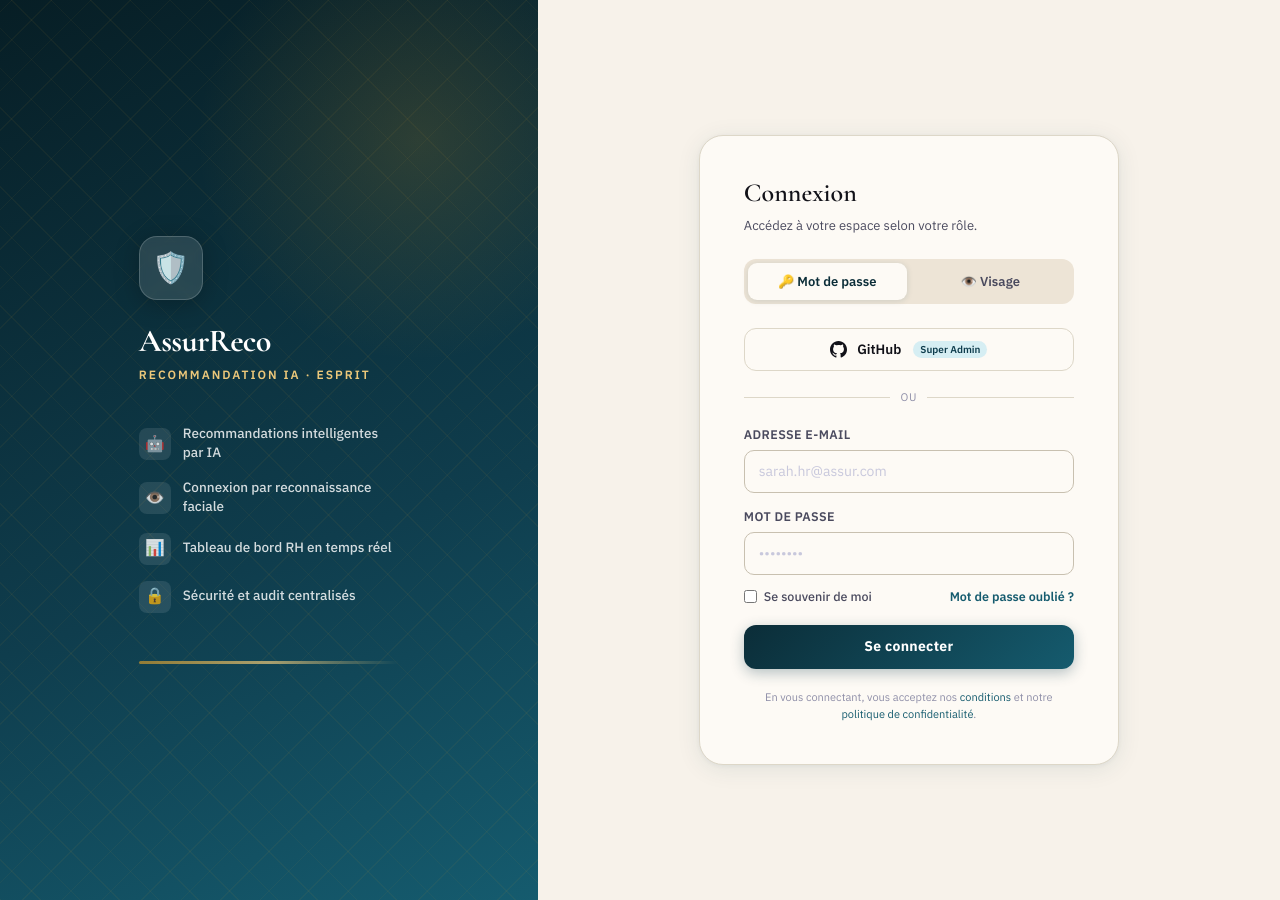
Test case: Login page › form interaction › disables submit button during loading
The width and height of the screenshot is (1280, 900).
Type "user@example.com" into the field with placeholder "sarah.hr@assur.com".
click(909, 471); type("user@example.com")  # box [744,450,1074,492]
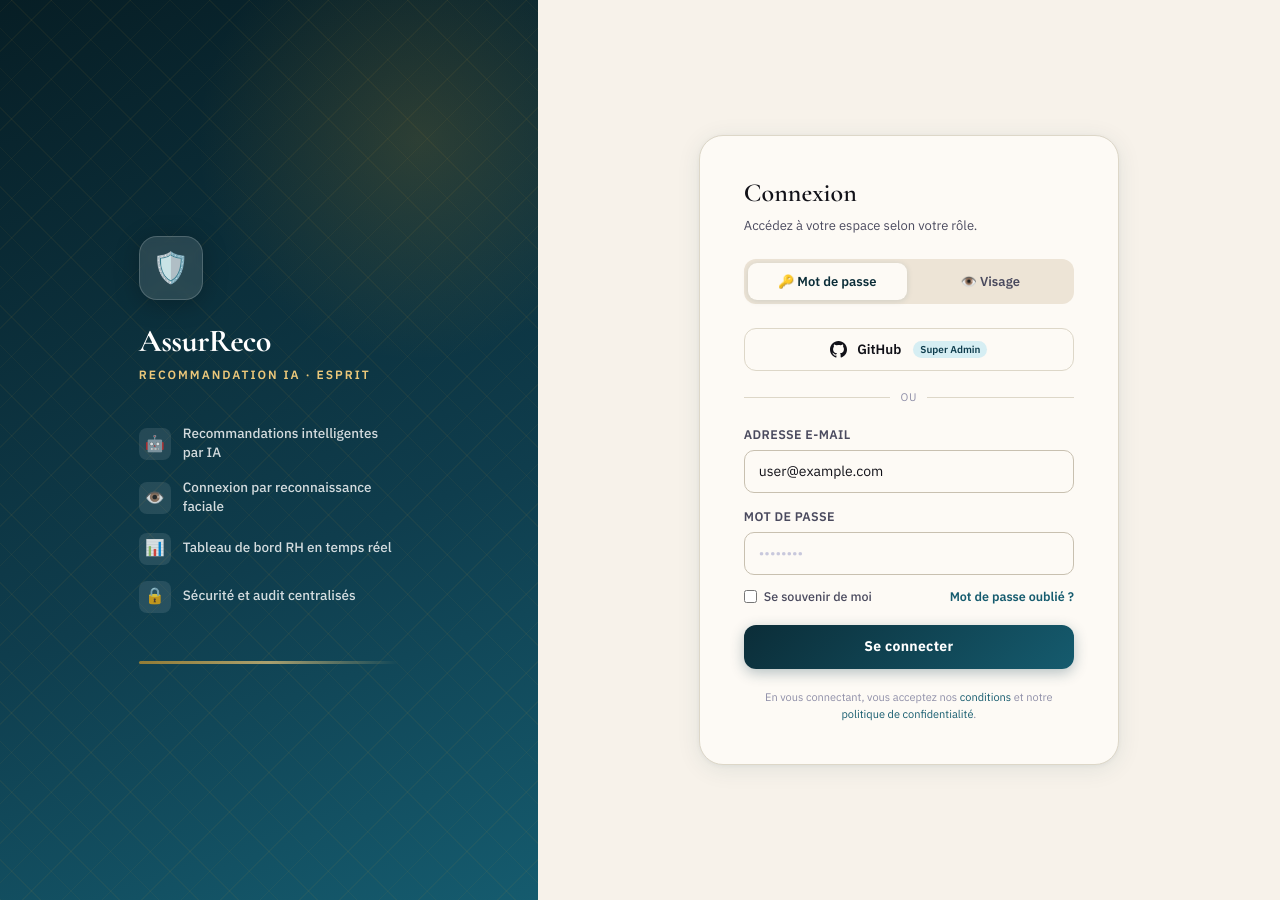
Type "password" into the password field with placeholder "••••••••".
click(909, 553); type("password")  # box [744,532,1074,574]
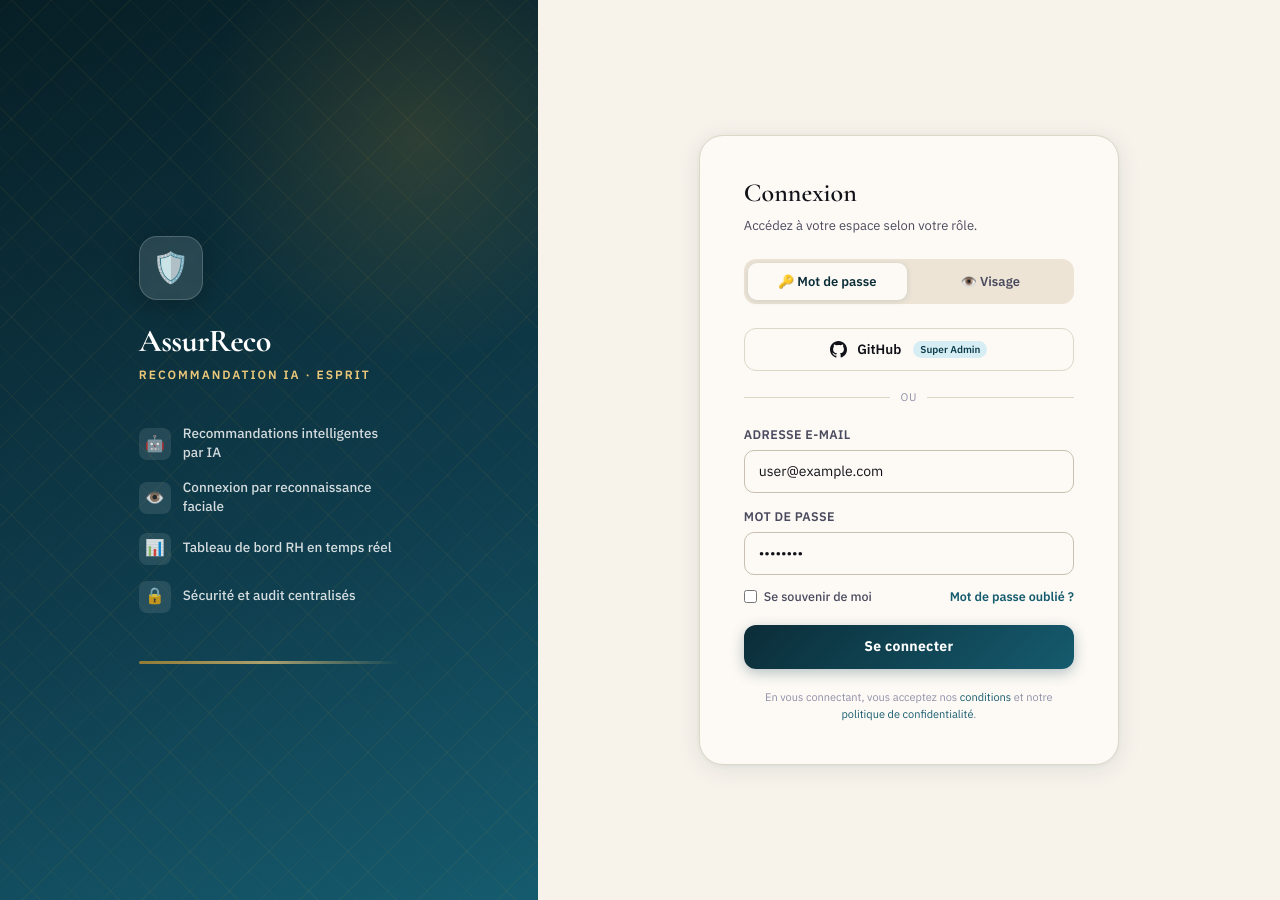
Click the button "Se connecter".
click(909, 646)  # box [744,624,1074,668]
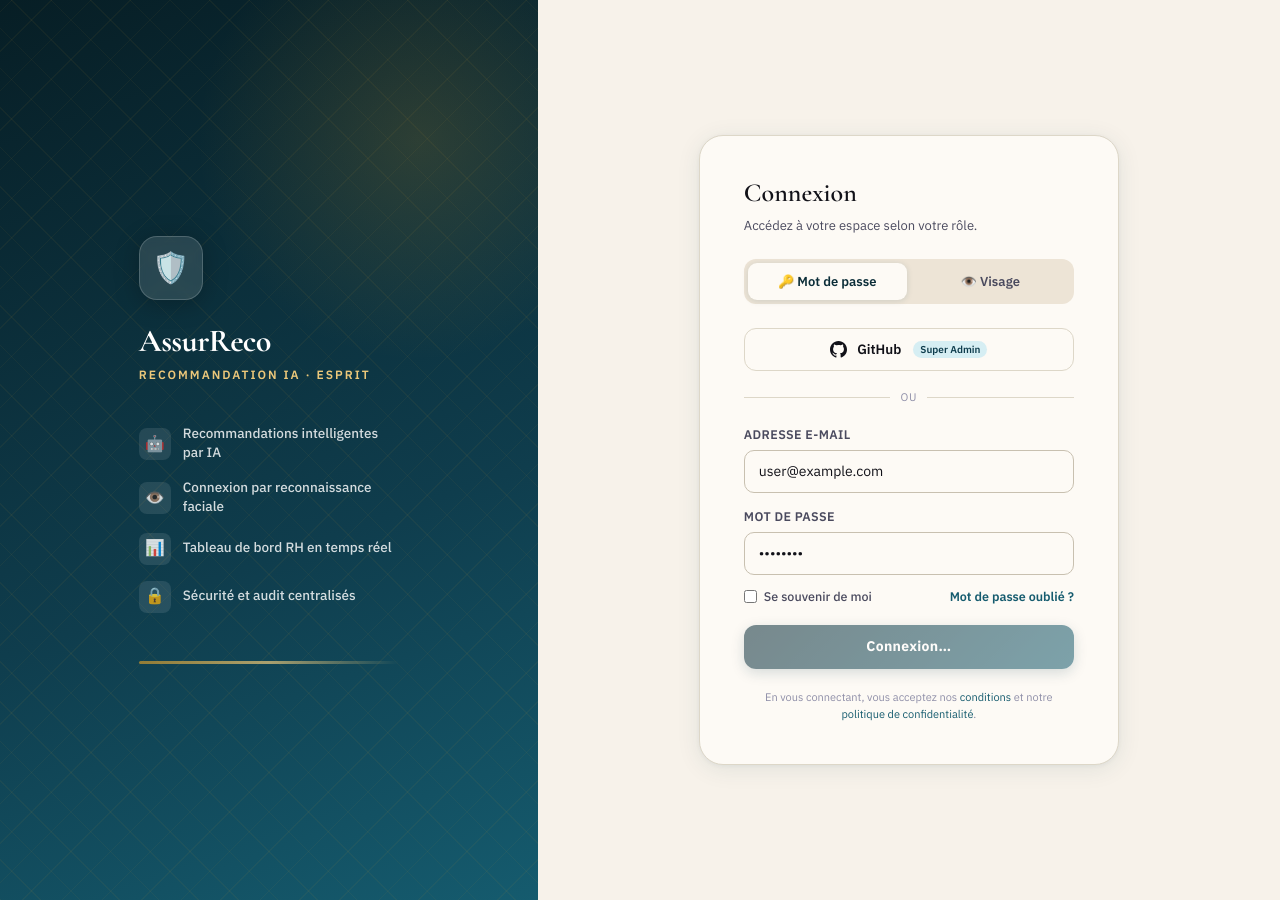
Check: the button "Connexion…" is disabled, box [744,624,1074,668]
